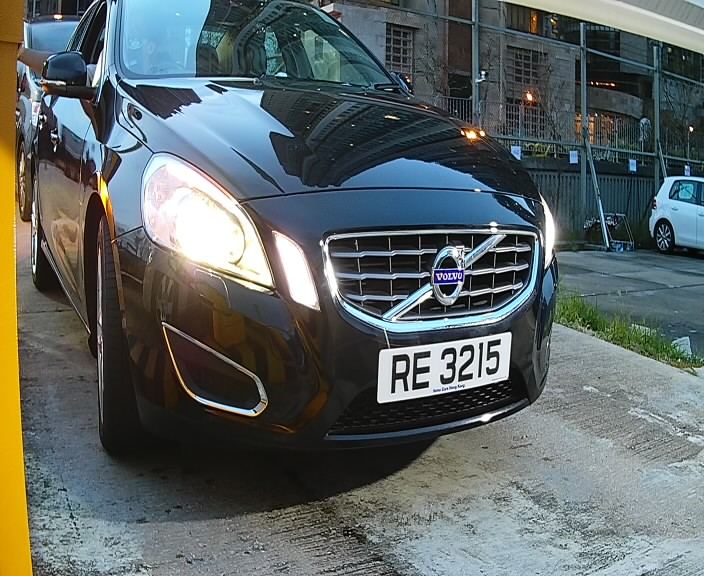License Plate: (369, 330, 520, 406)
